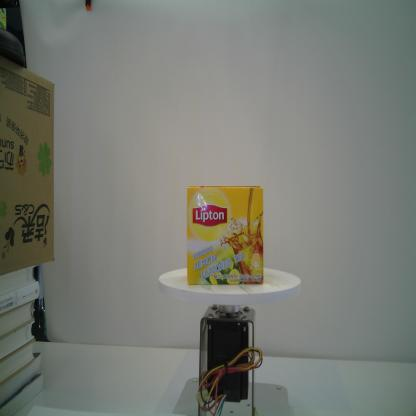Instant Drink: (185, 183, 266, 286)
